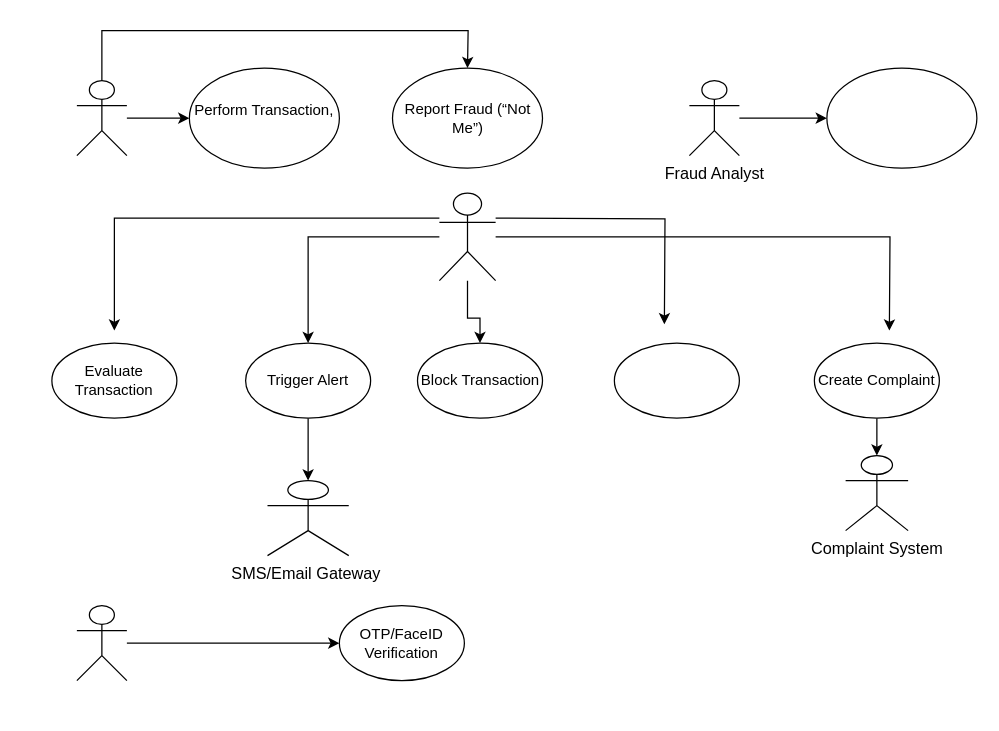
The diagram is 999 pixels wide and 731 high, and some of its shapes have lost their labels. The shapes that lost their labels are listed below. From the top down, each one's centre as x and y in pixels, then its label:
[101,117]: Customer
[901,117]: Review Transaction
[467,236]: System (Risk Engine)
[676,380]: Add to Fraud Queue
[101,642]: Authentication Service
